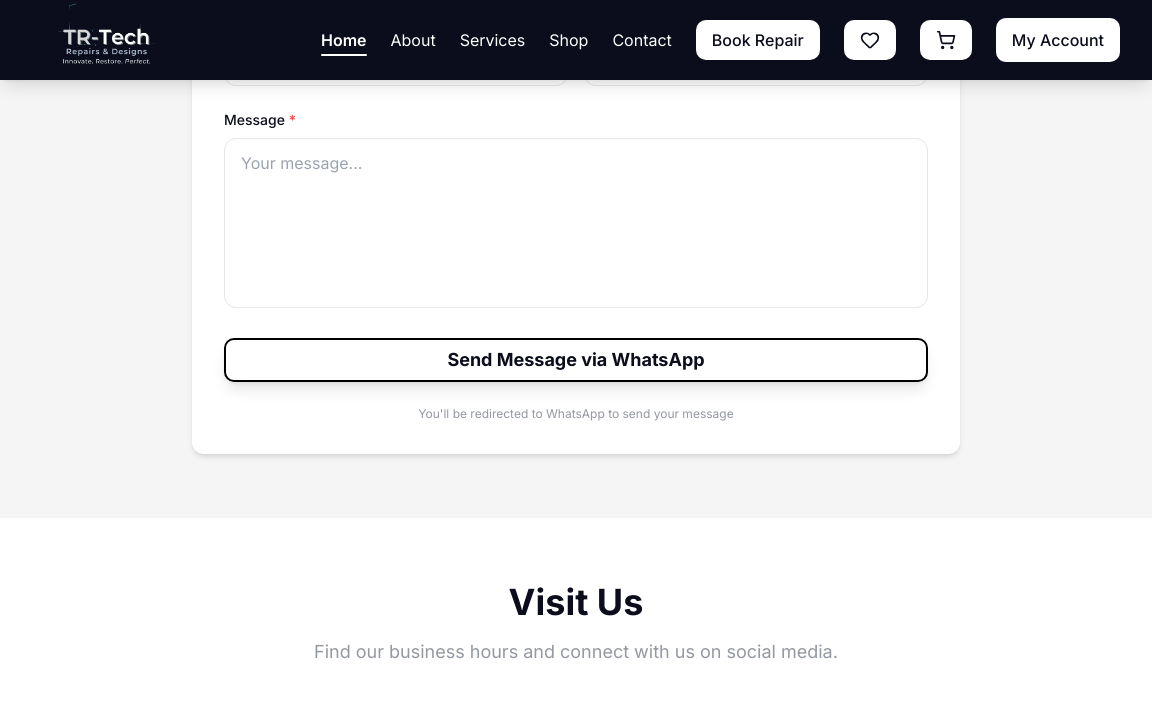
ContactPage › shows inline validation error for empty message
(page scrolled)
Note: Submit without a message — should show the required error
Click the button with test id "contact-submit".
click(576, 360)  # box [224,338,928,382]
(page scrolled)
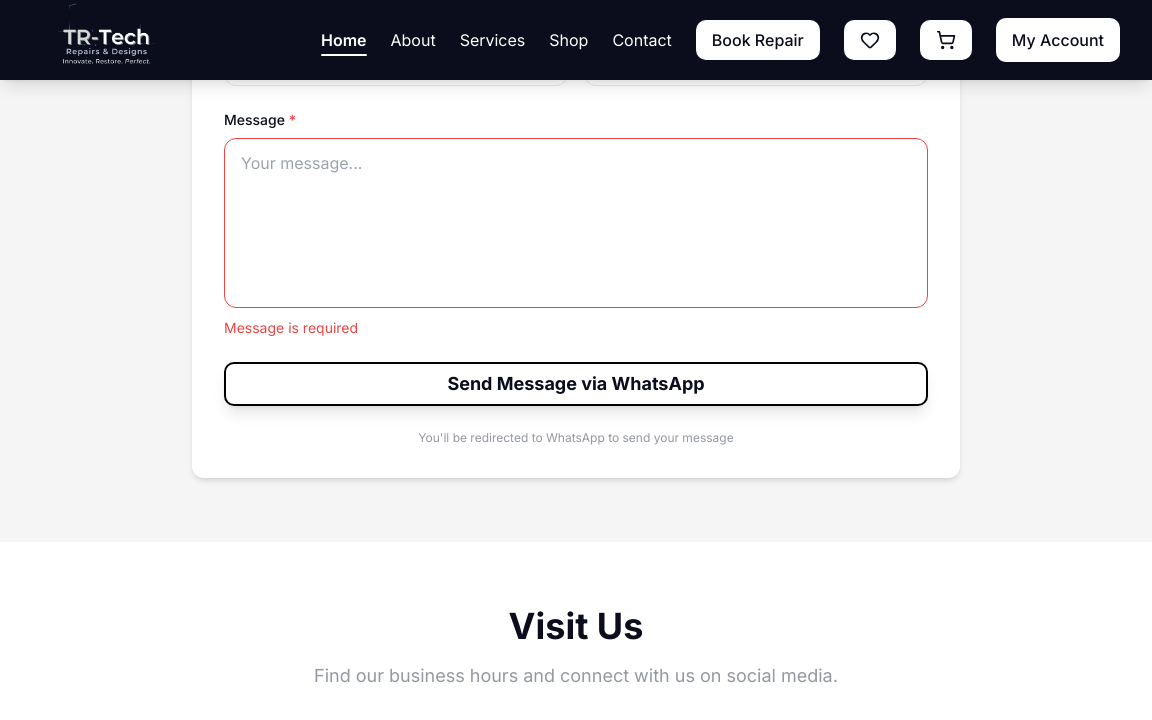
Result: the text "Message is required" is shown at [224,319,358,336]
